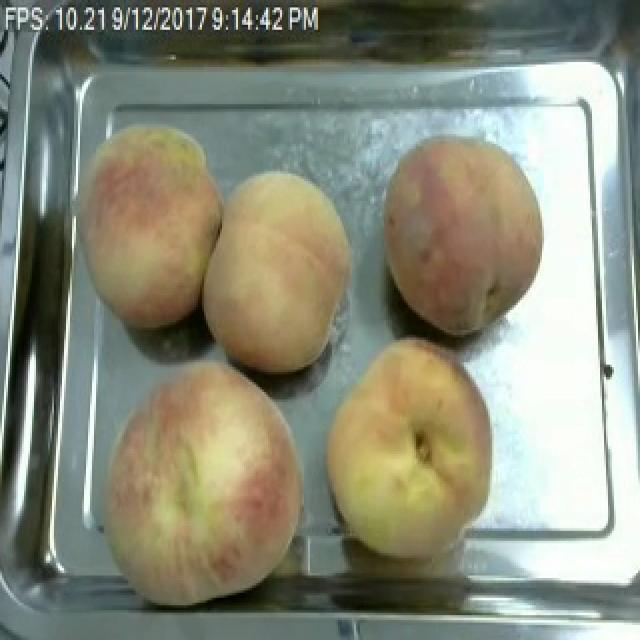Fruit: (78, 347, 320, 615), (312, 330, 506, 568), (62, 112, 234, 340), (374, 129, 550, 342), (196, 163, 362, 384)
